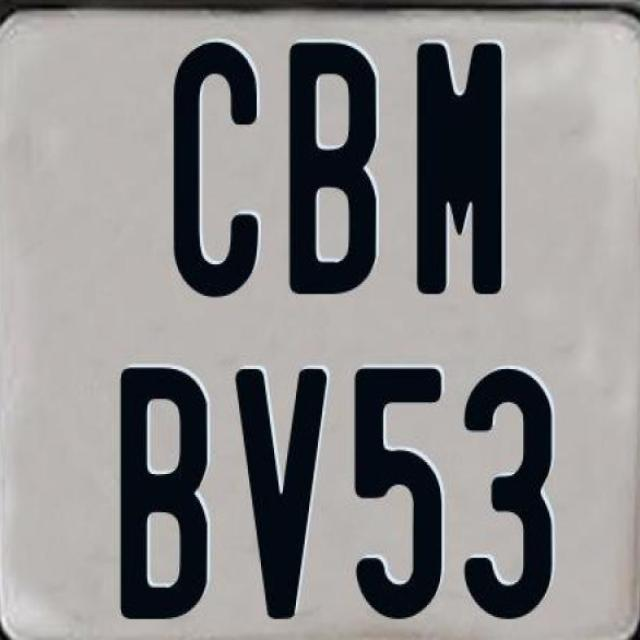license-plate: (4, 10, 640, 627)
